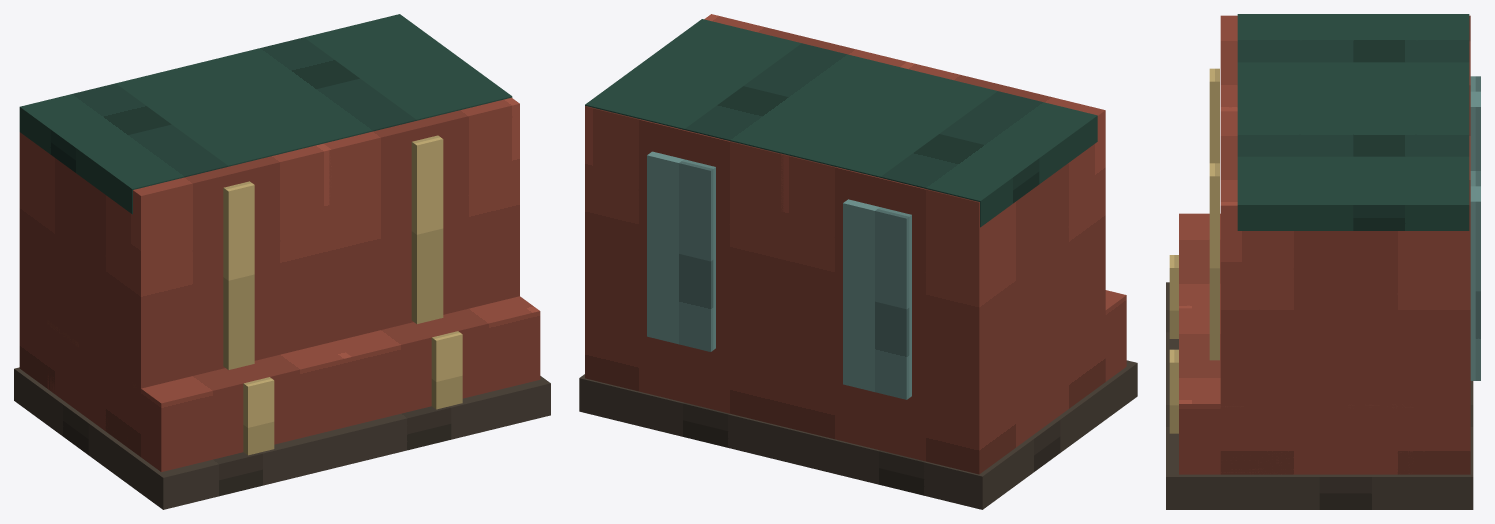
The model's file is qi_chixia_boots.obj.
The picture shows the model from 3 angles, left to right: view 1: azimuth 30°, elevation 25°; view 2: azimuth 150°, elevation 25°; view 3: azimuth 270°, elevation 25°; orthographic projection. The views are drawn at different scales.
Visible parts, largest first — view 1: boot_-1, boot_1, boot_collar_-1, boot_collar_1, toe_-1, toe_1, sole_-1, sole_1, shin_gold_1, shin_gold_-1, toe_gold_-1, toe_gold_1; view 2: boot_-1, boot_1, boot_collar_-1, boot_collar_1, sole_-1, boot_back_-1, boot_back_1, sole_1, toe_-1; view 3: boot_1, boot_collar_1, boot_collar_-1, sole_1, toe_1, toe_-1, boot_back_1, shin_gold_1, boot_-1, shin_gold_-1, boot_back_-1, toe_gold_1 (+2 smaller).
Boxes of the visible parts, x1=… form: boot_-1: x1=19, y1=132, x2=331, y2=456; boot_1: x1=324, y1=97, x2=519, y2=342; boot_collar_-1: x1=19, y1=60, x2=323, y2=214; boot_collar_1: x1=209, y1=14, x2=512, y2=143; toe_-1: x1=47, y1=320, x2=351, y2=471; toe_1: x1=332, y1=296, x2=540, y2=425; sole_-1: x1=14, y1=367, x2=362, y2=509; sole_1: x1=346, y1=376, x2=550, y2=460; shin_gold_1: x1=411, y1=135, x2=443, y2=323; shin_gold_-1: x1=223, y1=181, x2=254, y2=369; toe_gold_-1: x1=243, y1=377, x2=274, y2=455; toe_gold_1: x1=431, y1=331, x2=462, y2=409; boot_-1: x1=781, y1=62, x2=1105, y2=474; boot_1: x1=585, y1=14, x2=906, y2=426; boot_collar_-1: x1=781, y1=67, x2=1097, y2=227; boot_collar_1: x1=585, y1=19, x2=901, y2=153; sole_-1: x1=775, y1=360, x2=1137, y2=509; boot_back_-1: x1=843, y1=199, x2=911, y2=399; boot_back_1: x1=647, y1=151, x2=715, y2=351; sole_1: x1=579, y1=374, x2=786, y2=459; toe_-1: x1=1105, y1=290, x2=1126, y2=381; boot_1: x1=1220, y1=111, x2=1470, y2=474; boot_collar_1: x1=1237, y1=109, x2=1469, y2=230; boot_collar_-1: x1=1237, y1=14, x2=1469, y2=110; sole_1: x1=1166, y1=382, x2=1473, y2=509; toe_1: x1=1179, y1=308, x2=1412, y2=474; toe_-1: x1=1179, y1=213, x2=1220, y2=308; boot_back_1: x1=1470, y1=171, x2=1480, y2=380; shin_gold_1: x1=1209, y1=163, x2=1219, y2=360; boot_-1: x1=1220, y1=15, x2=1470, y2=111; shin_gold_-1: x1=1209, y1=68, x2=1219, y2=163; boot_back_-1: x1=1470, y1=76, x2=1480, y2=170; toe_gold_1: x1=1169, y1=349, x2=1178, y2=433.
Bounding box in the file's own units: 0.5531 × 0.4016 × 0.3781.
